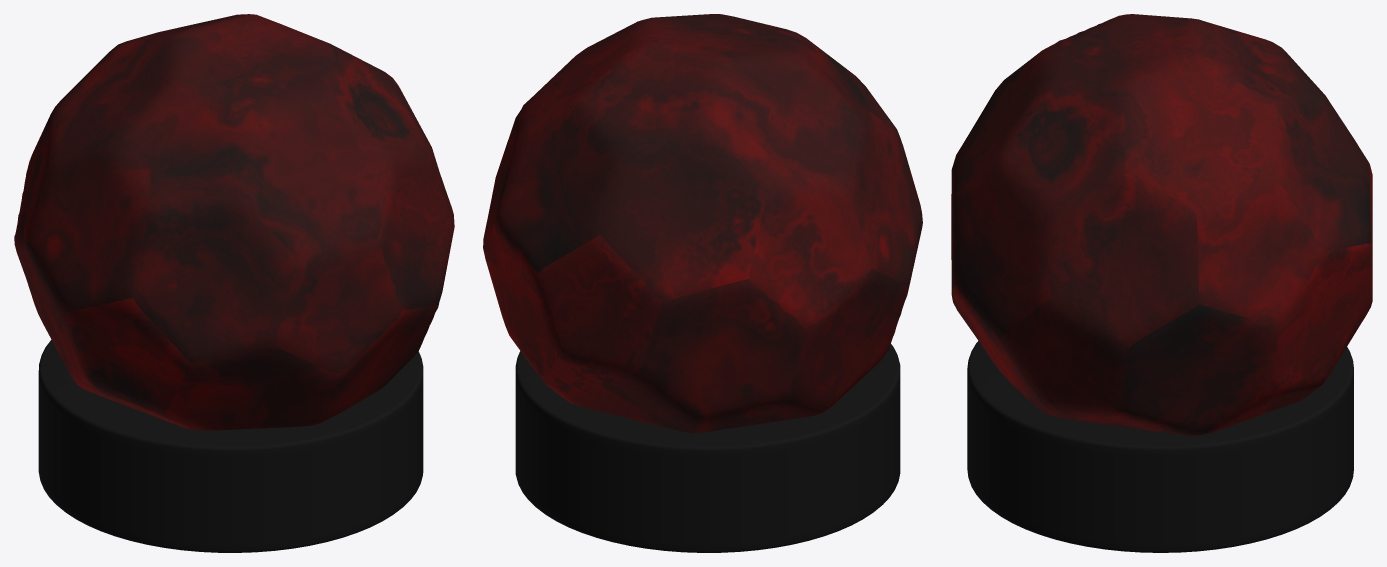
Rendered from 02redjasper.glb.
3 renders of one model, left to right at view 1: azimuth 30°, elevation 25°; view 2: azimuth 150°, elevation 25°; view 3: azimuth 270°, elevation 25°, orthographic.
Visible parts, largest first — view 1: Platonic, Cylinder_1; view 2: Platonic, Cylinder_1; view 3: Platonic, Cylinder_1.
Boxes of the visible parts, x1,y1,x2,y2 form: Platonic: (14,14,454,430); Cylinder_1: (38,340,423,552); Platonic: (483,14,922,433); Cylinder_1: (515,344,900,552); Platonic: (951,14,1372,435); Cylinder_1: (967,341,1353,552).
Size of the model in its own units: 4.54 by 5.02 by 4.38.
Materials: 2 (1 with a texture image).
